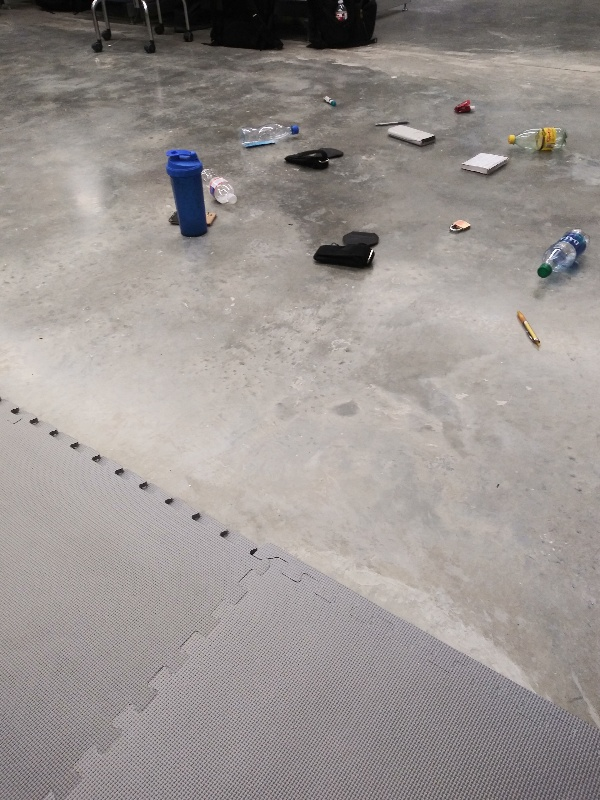bottle: (533, 224, 592, 282), (193, 160, 244, 212), (503, 121, 571, 155), (234, 120, 306, 151)
